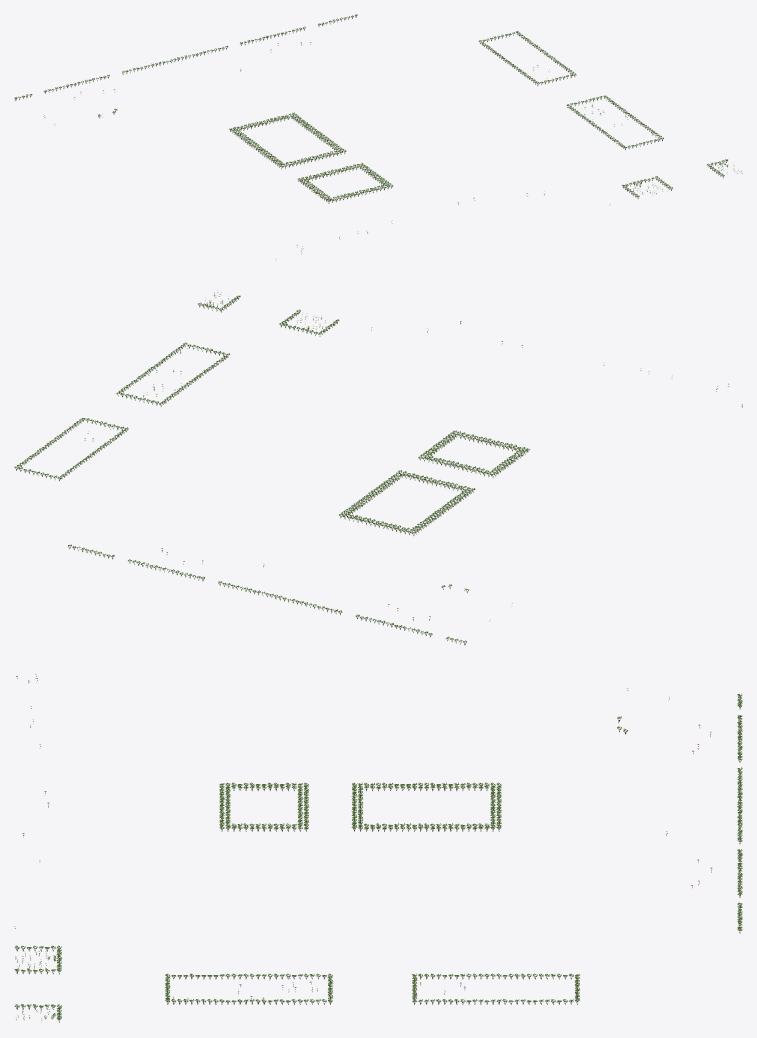
The picture shows the model from 3 angles, top to bottom: view 1: azimuth 30°, elevation 25°; view 2: azimuth 150°, elevation 25°; view 3: azimuth 270°, elevation 25°; orthographic projection. The views are drawn at different scales.
Parts seen in each view (by area): view 1: GROUND_FLORA_s_-6_-3; view 2: GROUND_FLORA_s_-6_-3; view 3: GROUND_FLORA_s_-6_-3.
Boxes of the visible parts, left/top/right/bottom form: GROUND_FLORA_s_-6_-3: left=14, top=14, right=742, bottom=260; GROUND_FLORA_s_-6_-3: left=14, top=290, right=742, bottom=645; GROUND_FLORA_s_-6_-3: left=14, top=674, right=742, bottom=1022.
Bounding box in the file's own units: 128 × 7.91 × 121.
